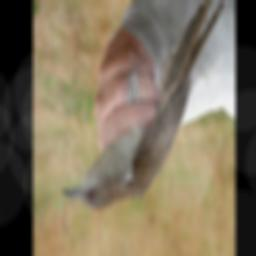Cuckoo: (61, 1, 225, 211)
